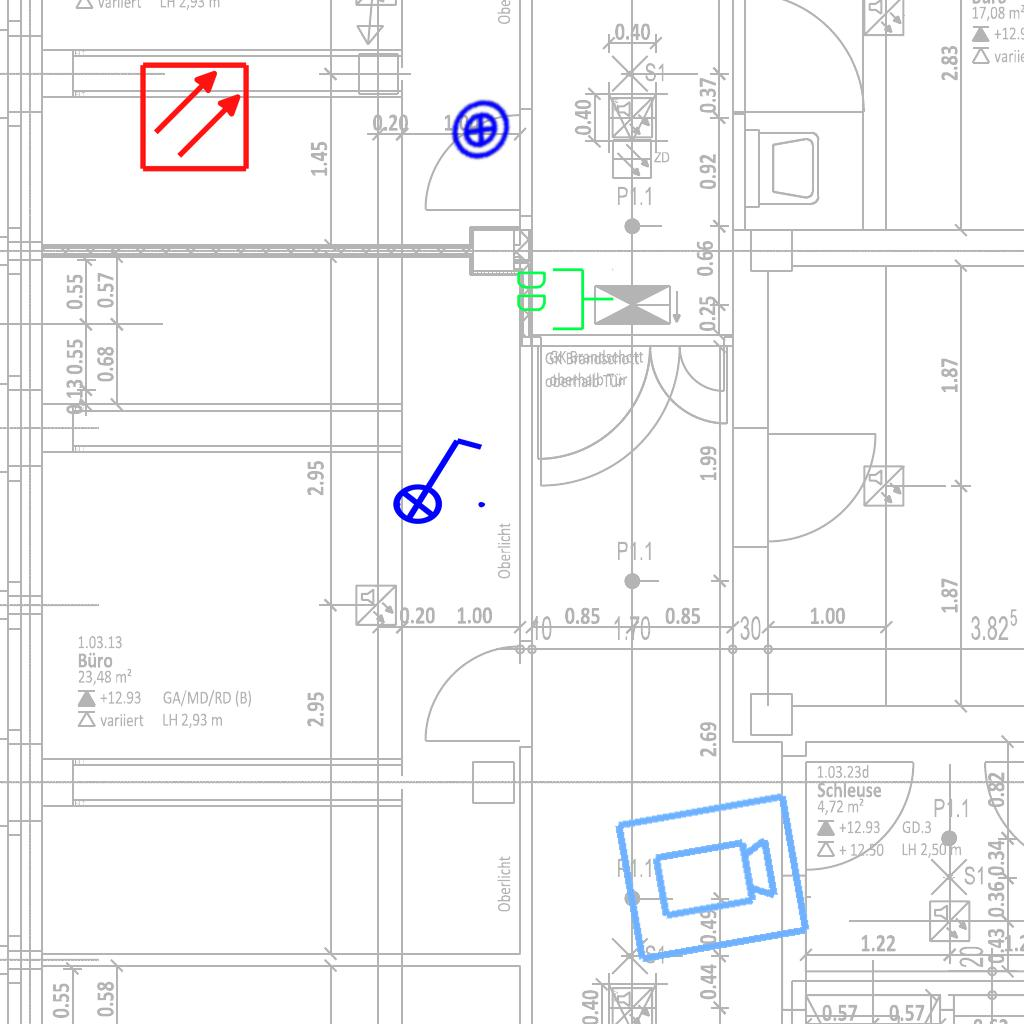Ausschalter_beleuchtet: (379, 430, 491, 526)
Datenanschluss_zweifach: (513, 264, 616, 333)
KFO_Kamera_mit_Festobjektiv: (609, 787, 815, 971)
RMO_Rauchmelder_optischer: (138, 60, 251, 173)
Taster_beleuchtet: (434, 83, 528, 177)
